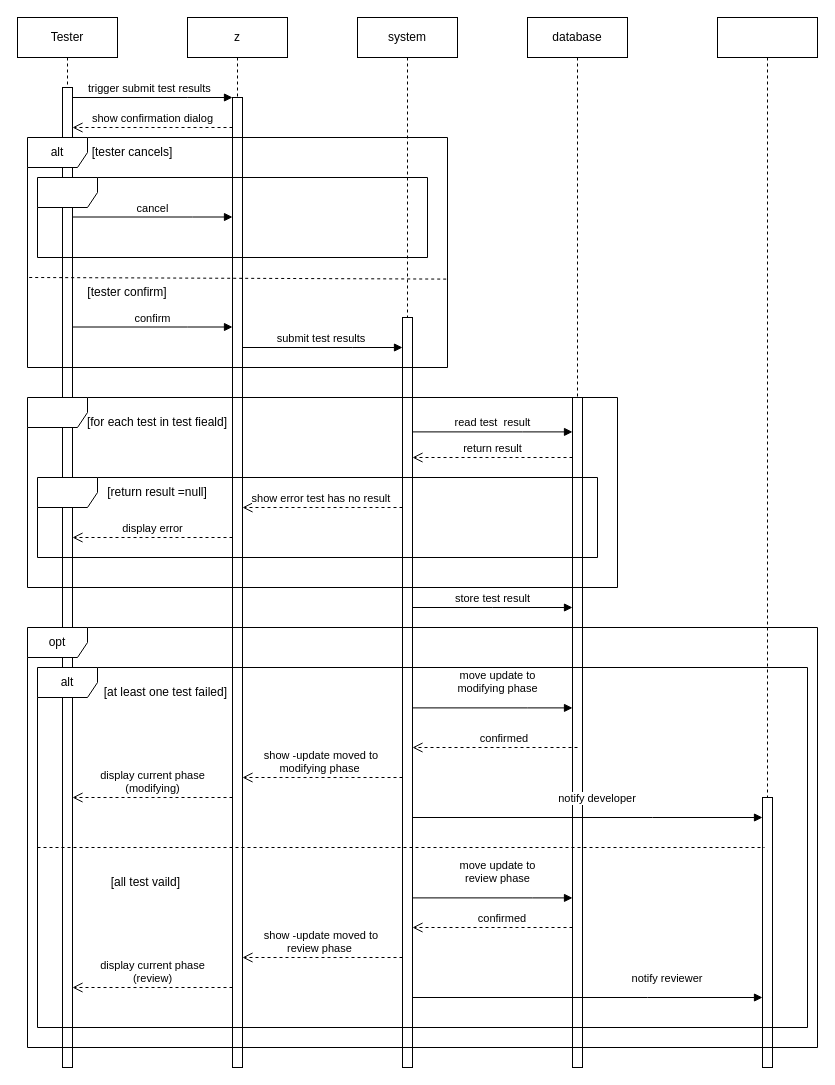
This 835x1085 diagram has some shape labels left out. Each missing label, with the box of its shape:
breack: (36, 176, 428, 258)
break: (36, 476, 598, 558)
loop: (26, 396, 618, 588)
Notifier: (716, 16, 818, 1068)
